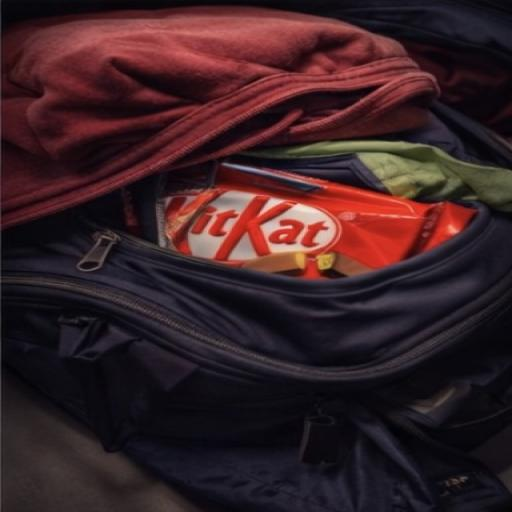kitkat: (63, 108, 480, 376)
